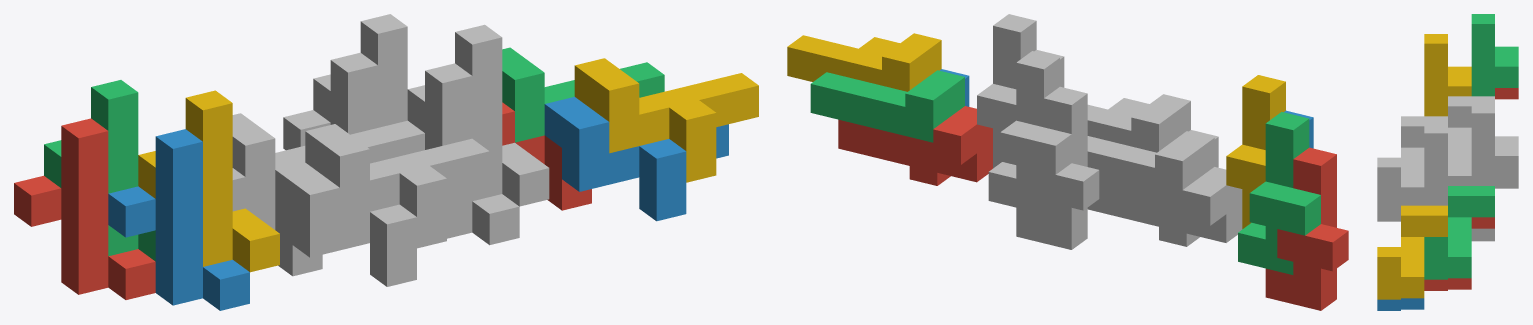
Rendered from tiling.obj.
The picture shows the model from 3 angles, left to right: view 1: azimuth 30°, elevation 25°; view 2: azimuth 150°, elevation 25°; view 3: azimuth 270°, elevation 25°; orthographic projection. The views are drawn at different scales.
Visible parts, largest first — view 1: copy_1_domain_2, copy_1_domain_1, copy_2_domain_8, copy_2_domain_4, copy_2_domain_6, copy_2_domain_2, copy_1_domain_4, copy_1_domain_8, copy_1_domain_6, copy_1_domain_3, copy_1_domain_5, copy_1_domain_7 (+4 smaller); view 2: copy_1_domain_5, copy_1_domain_1, copy_1_domain_3, copy_1_domain_7, copy_2_domain_7, copy_2_domain_5, copy_2_domain_1, copy_2_domain_8, copy_2_domain_3, copy_2_domain_4, copy_1_domain_4, copy_1_domain_8; view 3: copy_2_domain_8, copy_2_domain_7, copy_2_domain_4, copy_1_domain_7, copy_1_domain_3, copy_1_domain_4, copy_1_domain_8, copy_2_domain_3, copy_2_domain_5, copy_2_domain_6, copy_1_domain_5, copy_1_domain_1 (+1 smaller).
Part boxes in pixels (x1,y1,x2,y2): copy_1_domain_2: [108, 129, 249, 310]; copy_1_domain_1: [14, 118, 155, 299]; copy_2_domain_8: [574, 58, 758, 182]; copy_2_domain_4: [305, 124, 489, 248]; copy_2_domain_6: [544, 96, 728, 221]; copy_2_domain_2: [275, 162, 459, 286]; copy_1_domain_4: [138, 90, 279, 272]; copy_1_domain_8: [407, 24, 549, 206]; copy_1_domain_6: [378, 63, 519, 245]; copy_1_domain_3: [44, 80, 155, 261]; copy_1_domain_5: [283, 52, 377, 150]; copy_1_domain_7: [313, 14, 407, 127]; copy_1_domain_5: [1016, 86, 1099, 249]; copy_1_domain_1: [1265, 147, 1348, 310]; copy_1_domain_3: [1238, 112, 1320, 274]; copy_1_domain_7: [988, 51, 1071, 214]; copy_2_domain_7: [810, 70, 964, 142]; copy_2_domain_5: [838, 106, 992, 185]; copy_2_domain_1: [1087, 167, 1242, 246]; copy_2_domain_8: [787, 33, 941, 91]; copy_2_domain_3: [1087, 131, 1214, 203]; copy_2_domain_4: [1087, 94, 1190, 152]; copy_1_domain_4: [1226, 75, 1285, 228]; copy_1_domain_8: [977, 14, 1036, 168]; copy_2_domain_8: [1377, 205, 1447, 299]; copy_2_domain_7: [1424, 186, 1494, 279]; copy_2_domain_4: [1377, 116, 1447, 209]; copy_1_domain_7: [1471, 103, 1518, 229]; copy_1_domain_3: [1471, 14, 1518, 96]; copy_1_domain_4: [1424, 34, 1471, 116]; copy_1_domain_8: [1424, 123, 1471, 205]; copy_2_domain_3: [1448, 96, 1494, 155]; copy_2_domain_5: [1424, 217, 1494, 290]; copy_2_domain_6: [1377, 298, 1424, 310]; copy_1_domain_5: [1471, 177, 1518, 241]; copy_1_domain_1: [1495, 88, 1518, 99].
Bounding box in the file's own units: 22 × 6 × 6.
